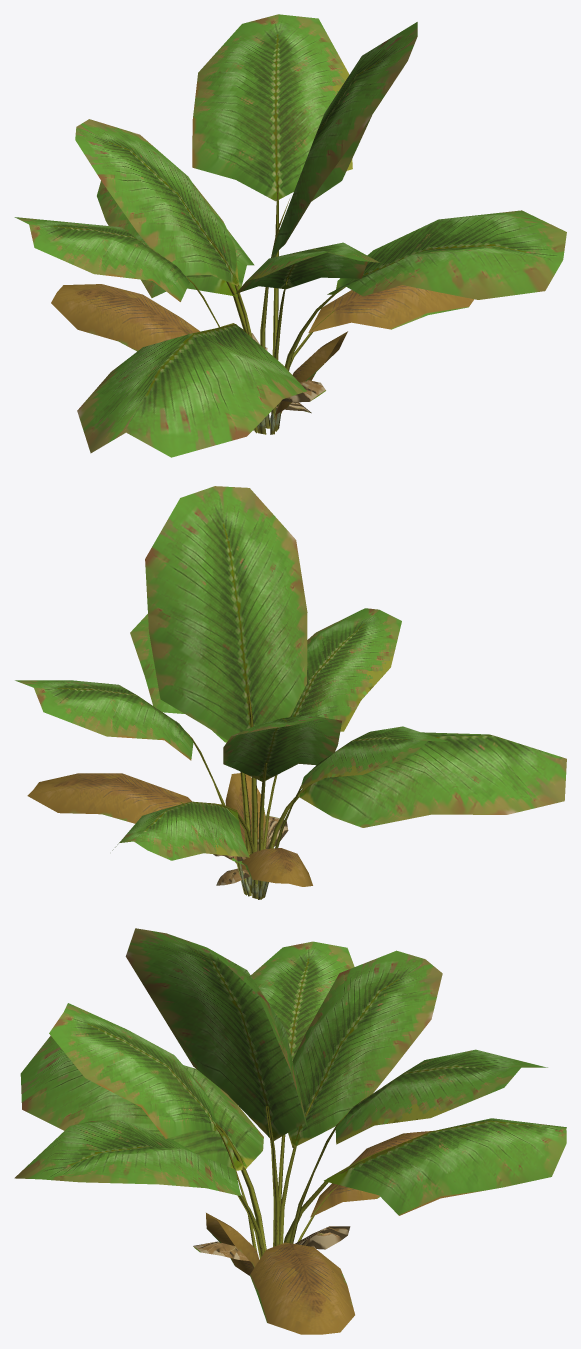
File: Grass_3.fbx
3 renders of one model, top to bottom at view 1: azimuth 30°, elevation 25°; view 2: azimuth 150°, elevation 25°; view 3: azimuth 270°, elevation 25°, orthographic. The views are drawn at different scales.
Parts seen in each view (by area): view 1: areca_Dried_01; view 2: areca_Dried_01; view 3: areca_Dried_01.
Part boxes in pixels (x1,y1,x2,y2): areca_Dried_01: (14,14,566,457); areca_Dried_01: (15,486,566,899); areca_Dried_01: (14,928,566,1334).
Bounding box in the file's own units: 4.34 × 3.39 × 4.05.
